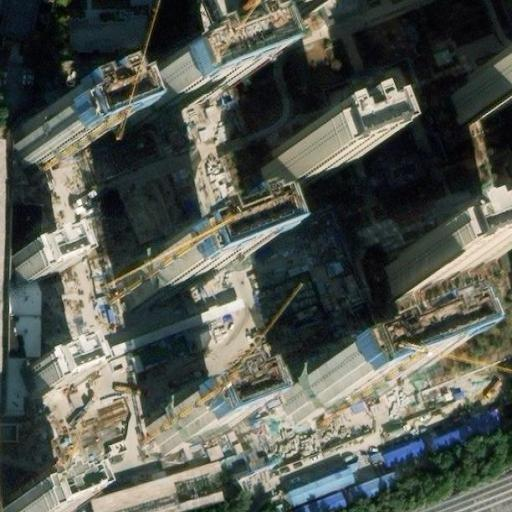building: (286, 428, 506, 512), (376, 227, 508, 307), (282, 345, 414, 424), (375, 412, 497, 472), (130, 45, 234, 115), (117, 240, 220, 309), (15, 102, 99, 167), (254, 136, 338, 201), (440, 52, 512, 117), (150, 390, 225, 448), (280, 466, 355, 508), (1, 231, 62, 282), (17, 346, 75, 395)
